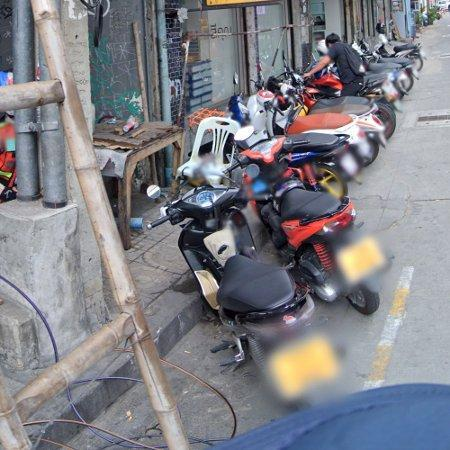motorcycles: (148, 187, 345, 403), (226, 136, 389, 315), (240, 90, 375, 162)
